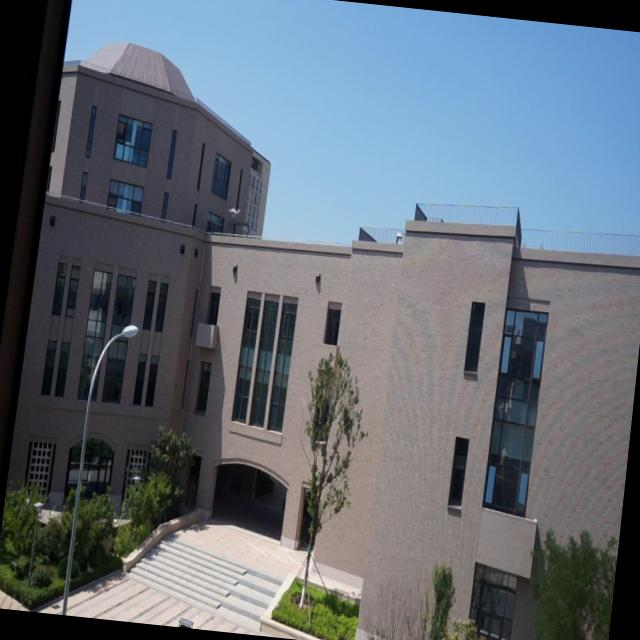drone: (225, 199, 243, 224)
